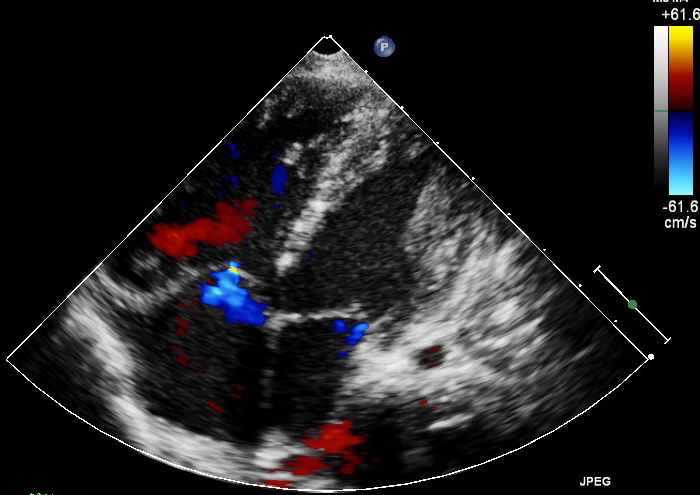TR: (114, 260, 266, 328)
